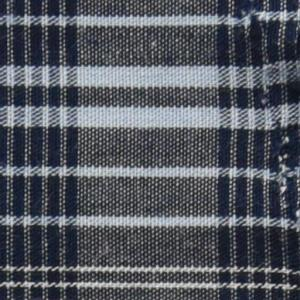Damage: (234, 1, 300, 241)
